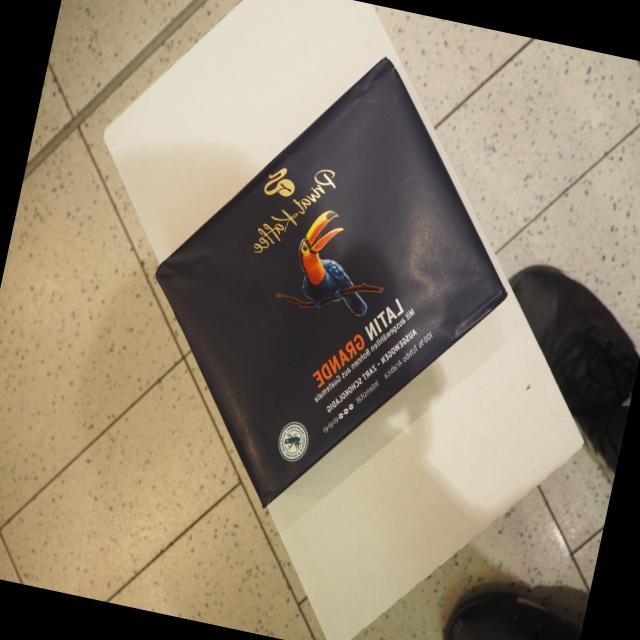LG Gemahlen: (149, 46, 511, 515)
